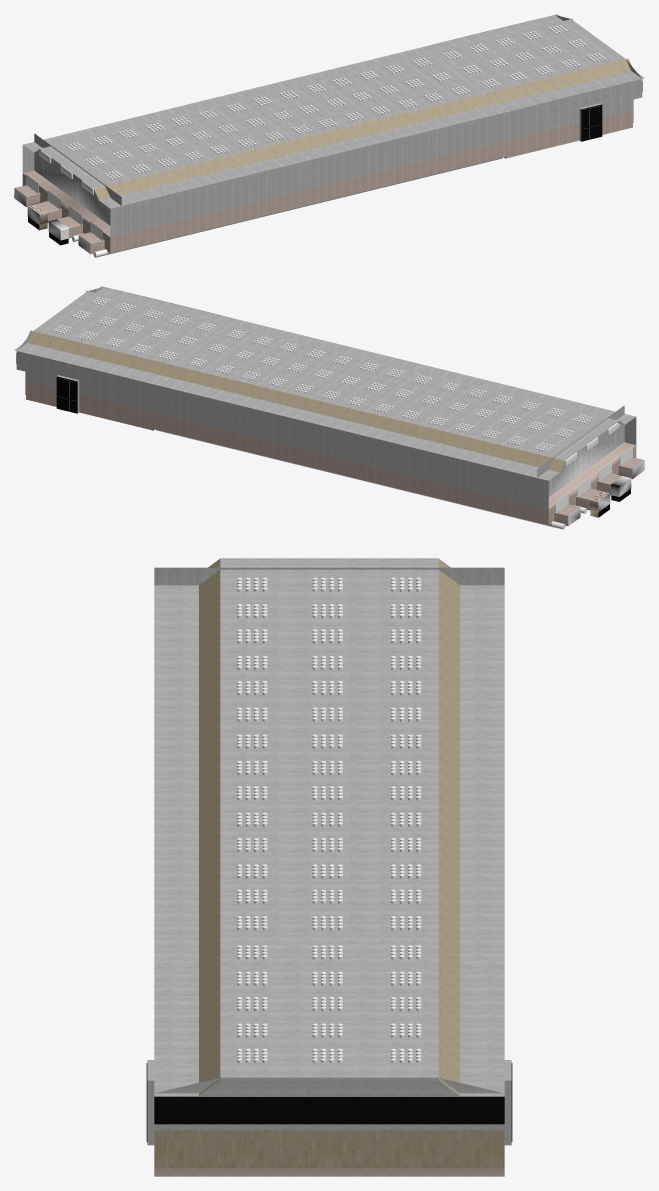
The model's file is BowlingScene1.fbx.
The picture shows the model from 3 angles, top to bottom: view 1: azimuth 30°, elevation 25°; view 2: azimuth 150°, elevation 25°; view 3: azimuth 270°, elevation 25°; orthographic projection. The views are drawn at different scales.
Visible parts, largest first — view 1: Plane001, Cylinder003; view 2: Plane001, Cylinder003; view 3: Plane001, Cylinder003.
Part boxes in pixels (bbox=[...]): Plane001: bbox=[14, 14, 644, 257]; Cylinder003: bbox=[66, 25, 605, 179]; Plane001: bbox=[14, 286, 644, 529]; Cylinder003: bbox=[53, 297, 592, 451]; Plane001: bbox=[146, 558, 512, 1176]; Cylinder003: bbox=[237, 577, 421, 1062].
Bounding box in the file's own units: 2677 × 279 × 761.
12 materials, 3 textured.
